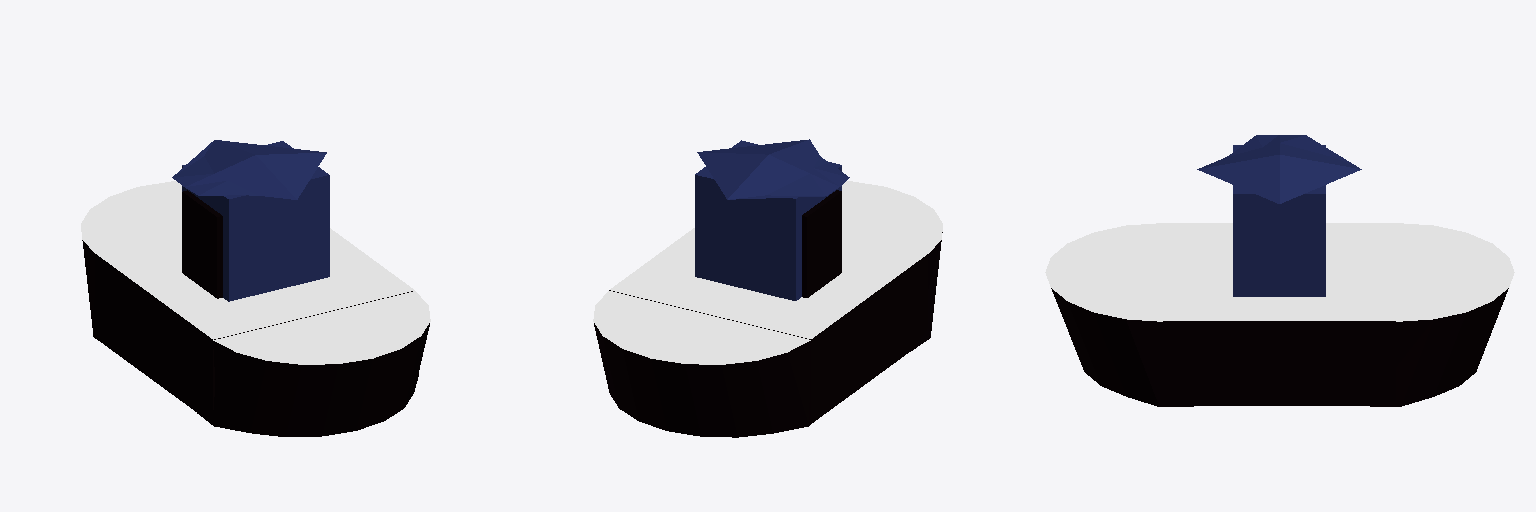
Rendered from boatredux.obj.
The picture shows the model from 3 angles: view 1: azimuth 30°, elevation 25°; view 2: azimuth 150°, elevation 25°; view 3: azimuth 270°, elevation 25°; orthographic projection.
Parts seen in each view (by area): view 1: pCylinder3, pCube1, pPyramid1, pCube2; view 2: pCylinder3, pCube1, pPyramid1, pCube2; view 3: pCylinder3, pCube1, pPyramid1.
Part boxes in pixels (bbox=[...]): pCylinder3: bbox=[81, 181, 430, 436]; pCube1: bbox=[182, 141, 329, 301]; pPyramid1: bbox=[172, 140, 326, 199]; pCube2: bbox=[182, 190, 222, 298]; pCylinder3: bbox=[593, 181, 942, 437]; pCube1: bbox=[695, 140, 841, 300]; pPyramid1: bbox=[697, 139, 849, 199]; pCube2: bbox=[802, 190, 841, 297]; pCylinder3: bbox=[1045, 223, 1514, 406]; pCube1: bbox=[1233, 145, 1325, 296]; pPyramid1: bbox=[1197, 135, 1361, 203].
Bounding box in the file's own units: 10.13 × 9.57 × 20.11.